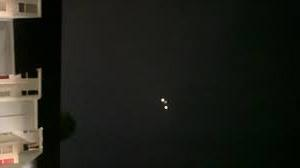Plane: (148, 86, 181, 116)
